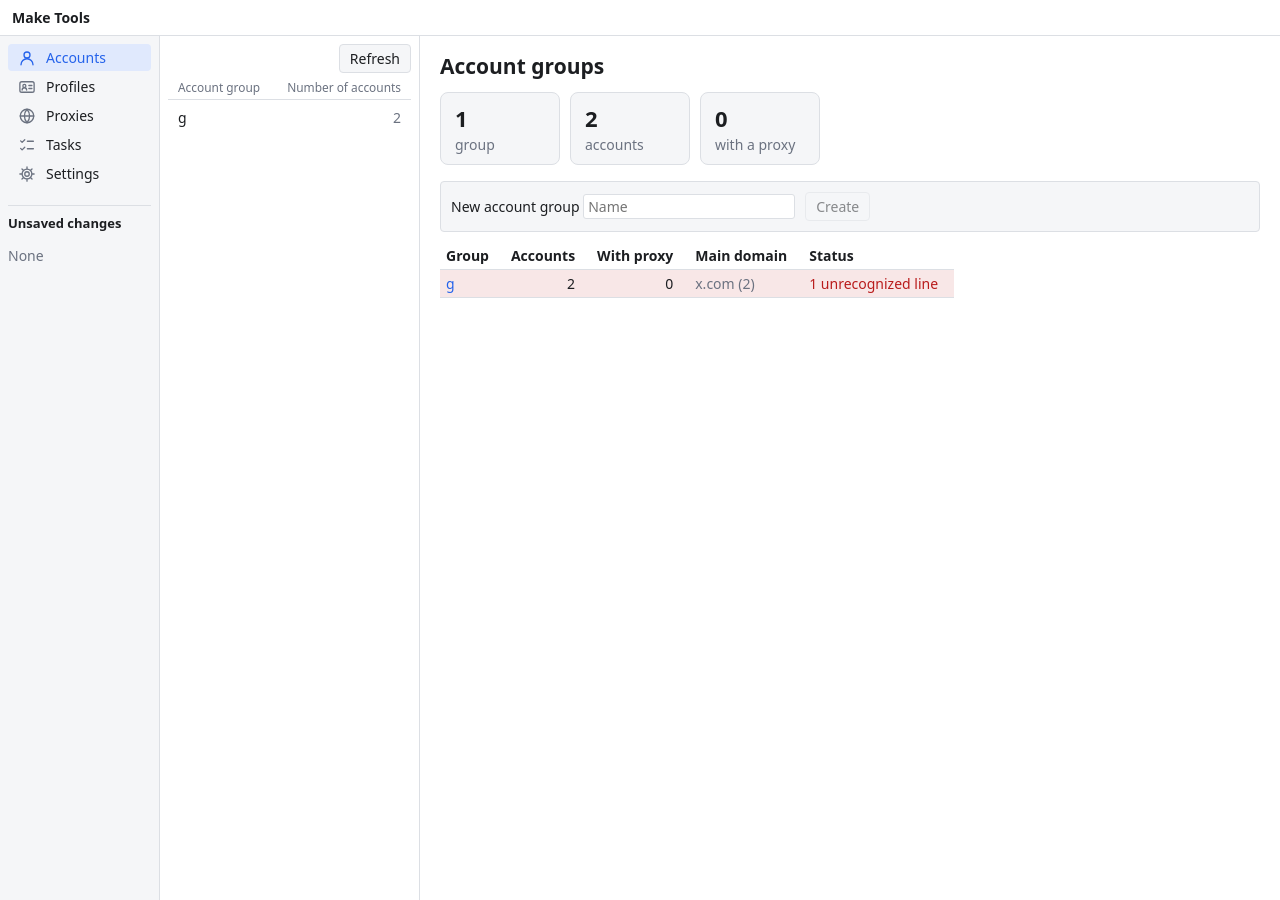
Test: account group page › lists lines that aren't accounts, with their line numbers
The width and height of the screenshot is (1280, 900).
expect the heading "Account groups" is shown: met, box [440,52,604,80]
Click the button "g": (450, 284) [446,274,455,293]
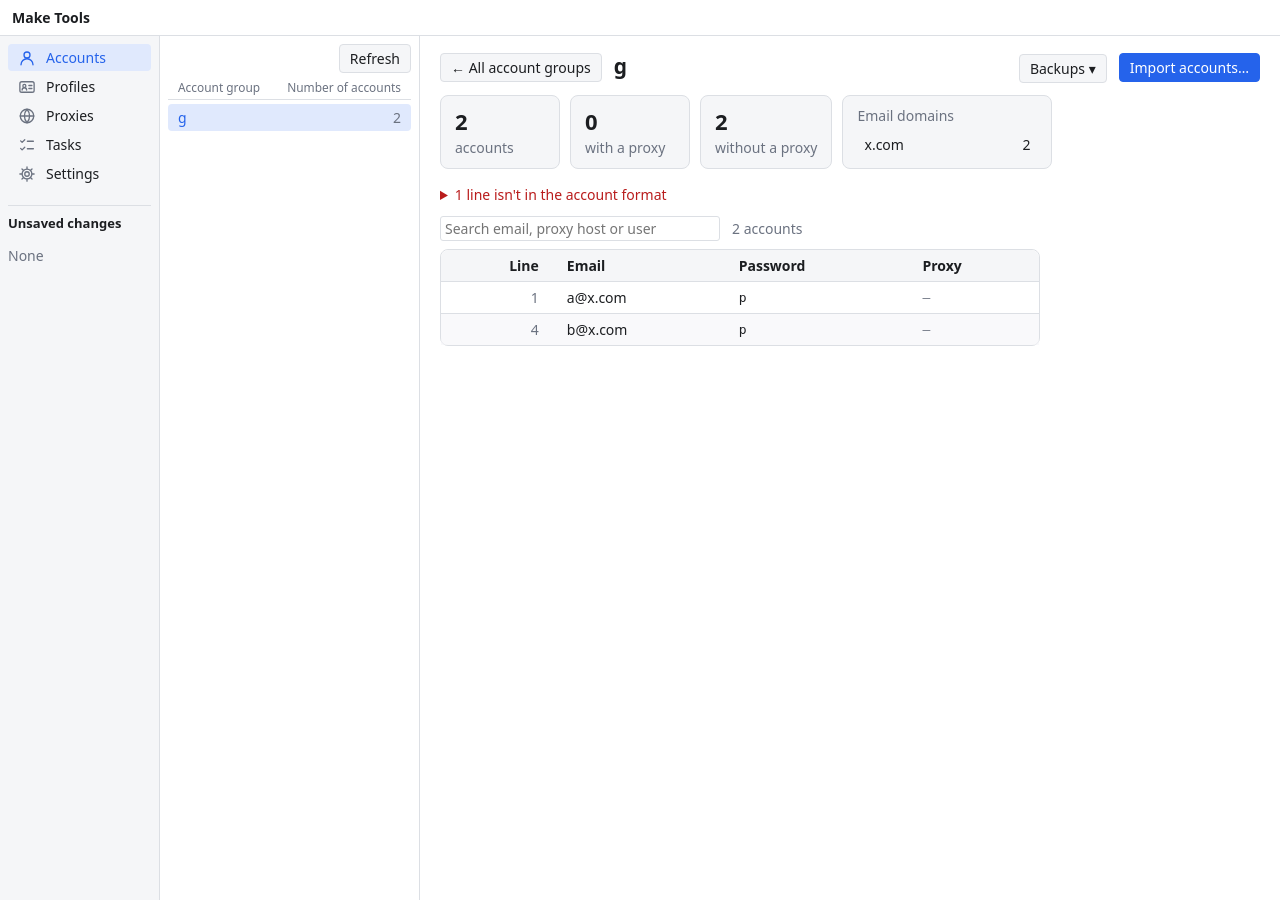
expect the heading "g" is shown: met, box [614,52,627,80]
expect the heading "1 line isn't in the account format" is shown: met, box [455,185,666,204]
